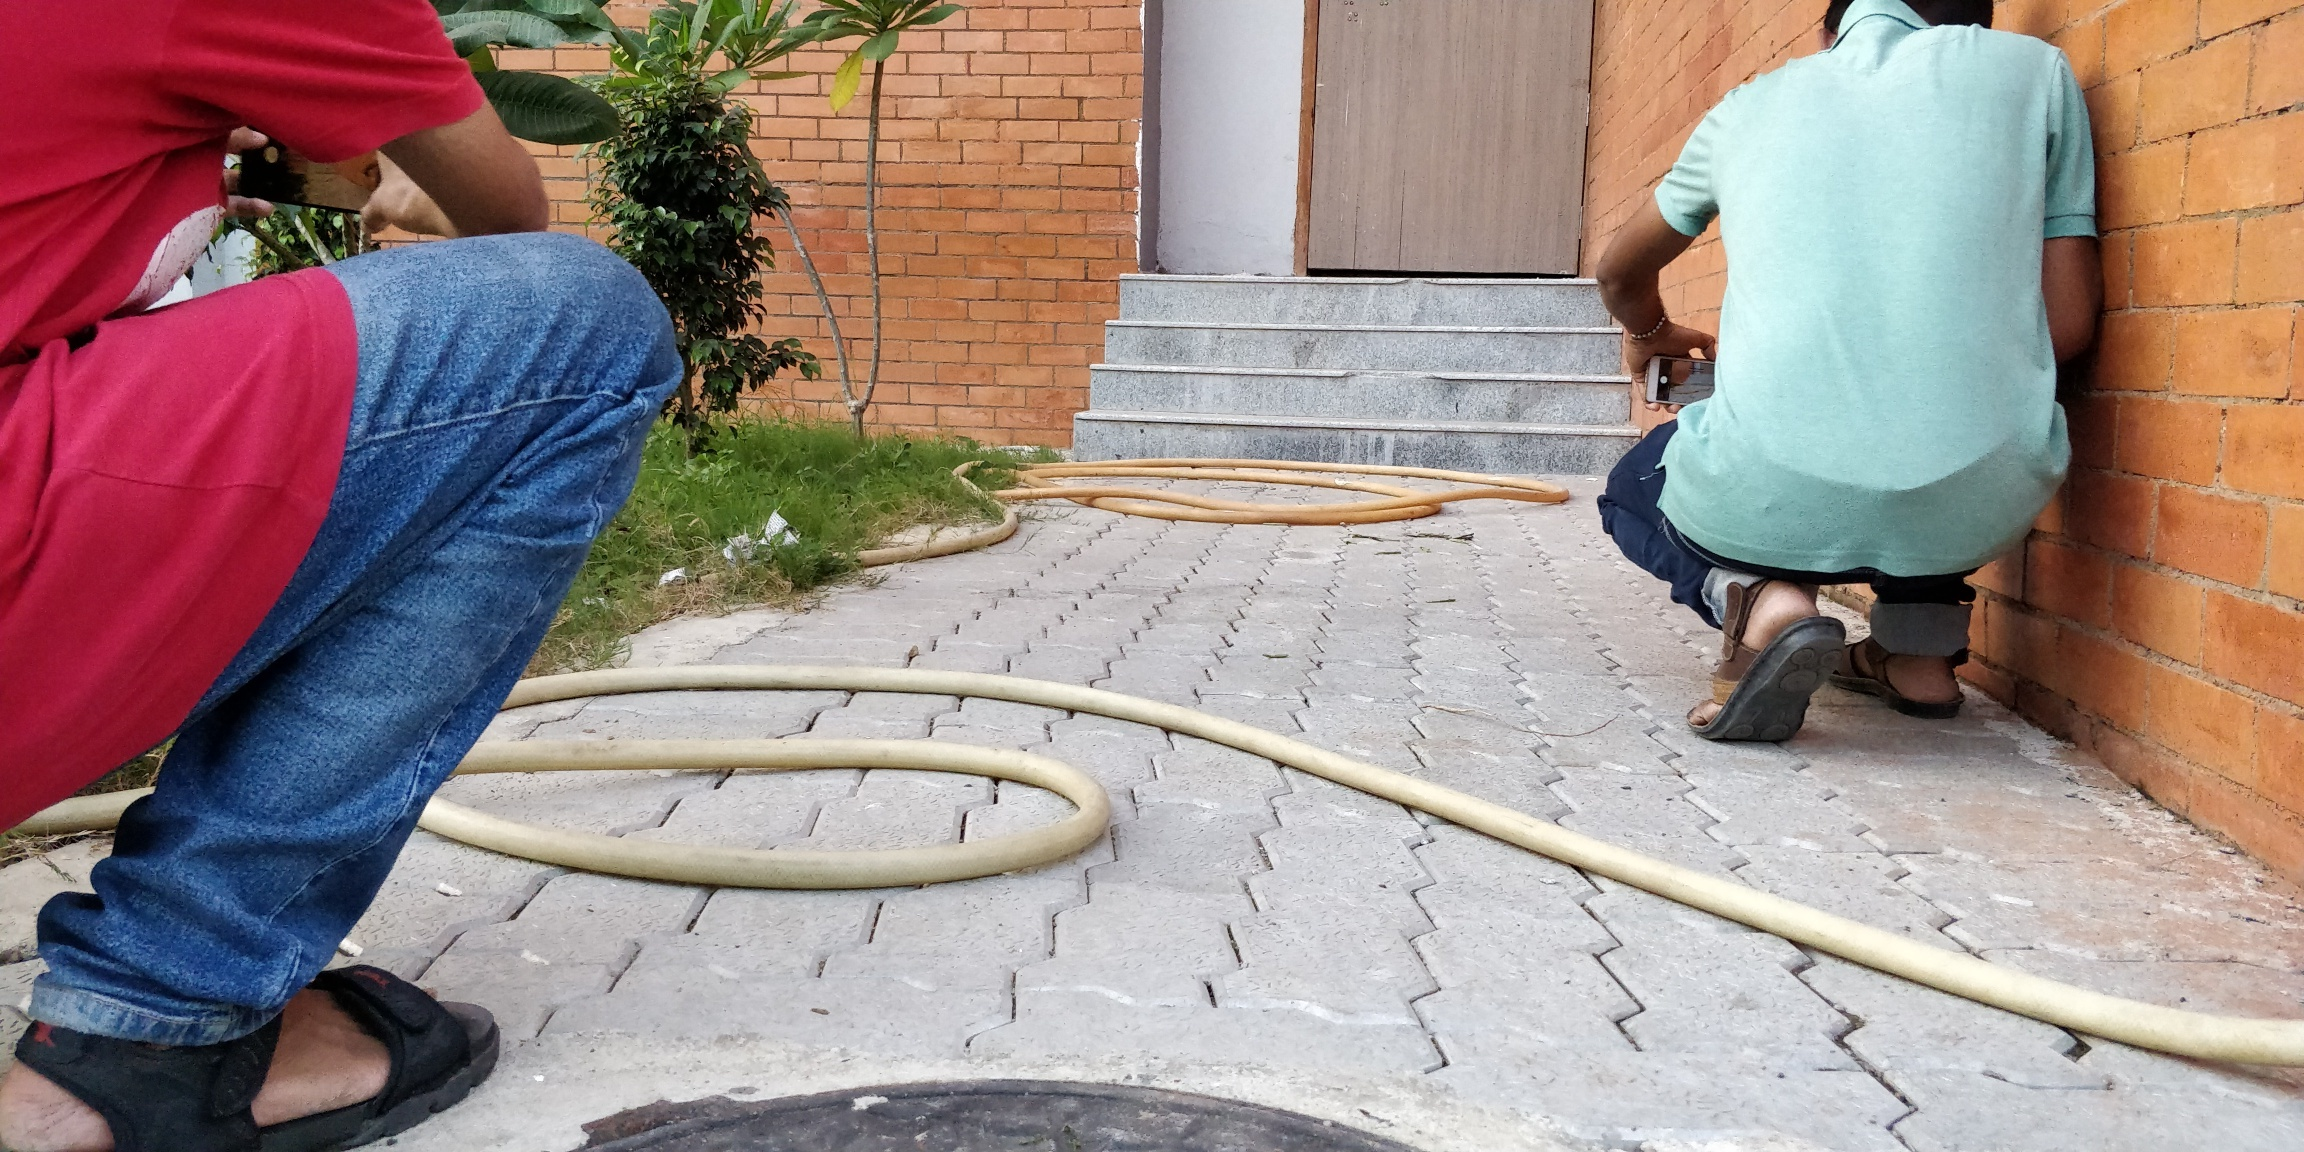stairs_up: (1079, 259, 1627, 476)
